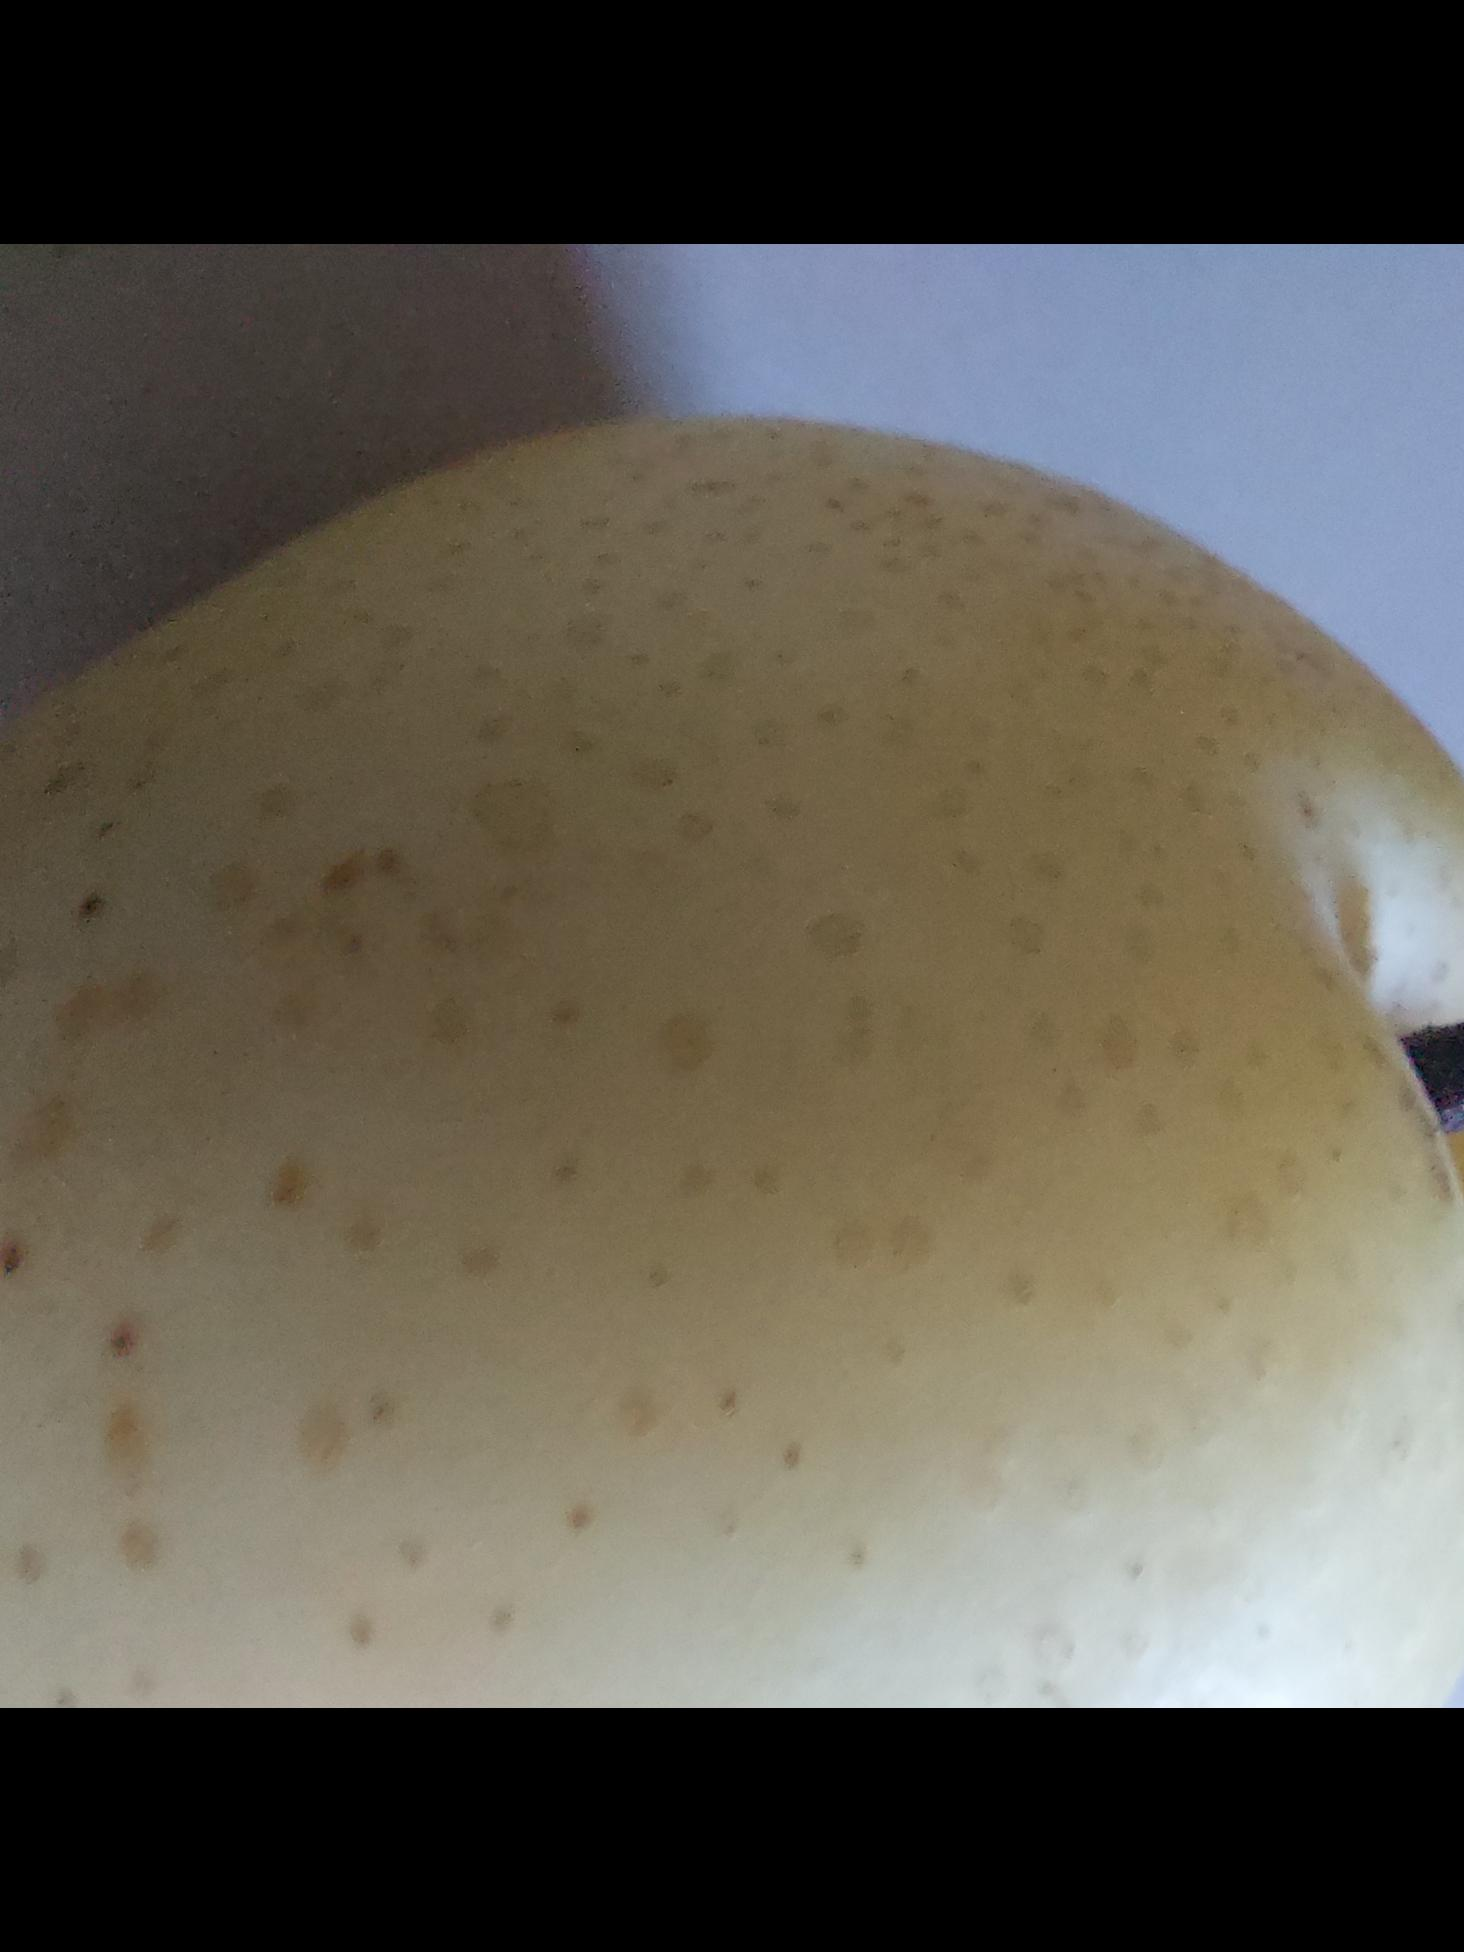Good Pear: (0, 373, 1464, 1708)
